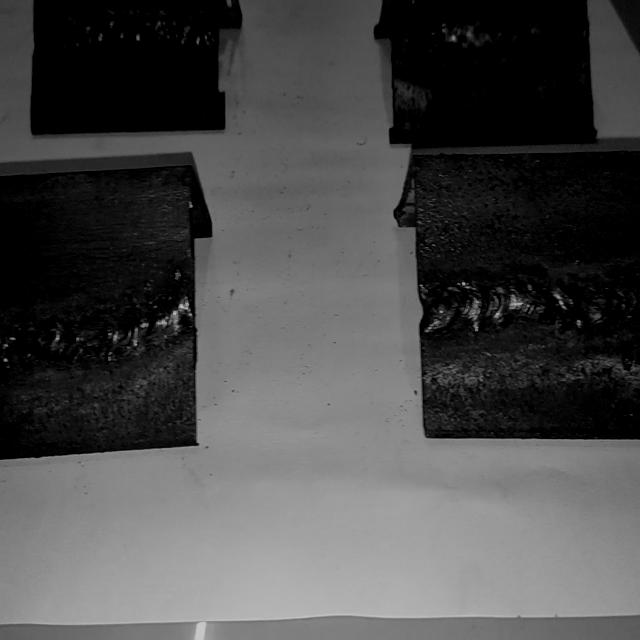Bad Weld: (0, 288, 194, 363), (421, 272, 640, 336), (395, 0, 587, 62), (35, 6, 218, 60)
Defect: (37, 0, 213, 64), (0, 308, 84, 373), (398, 0, 452, 68), (539, 266, 583, 344)
